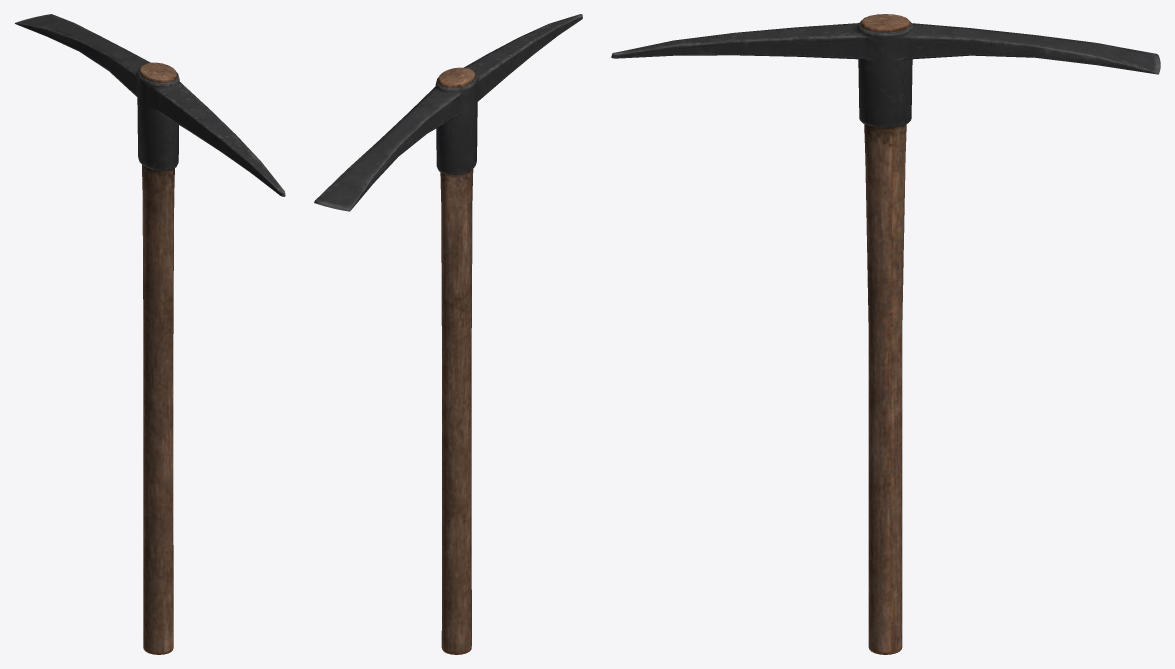
The model's file is mattock.obj.
3 views of the same model, side by side, from view 1: azimuth 30°, elevation 25°; view 2: azimuth 150°, elevation 25°; view 3: azimuth 270°, elevation 25° (orthographic). The views are drawn at different scales.
Visible parts, largest first — view 1: pickaxe_LP; view 2: pickaxe_LP; view 3: pickaxe_LP.
Part boxes in pixels (box(x1,y1,x2,y2)): pickaxe_LP: box(15, 14, 285, 654); pickaxe_LP: box(314, 14, 582, 654); pickaxe_LP: box(611, 14, 1160, 654).
Size of the model in its own units: 0.0911 by 1.38 by 1.09.
Materials: 1 (1 with a texture image).
